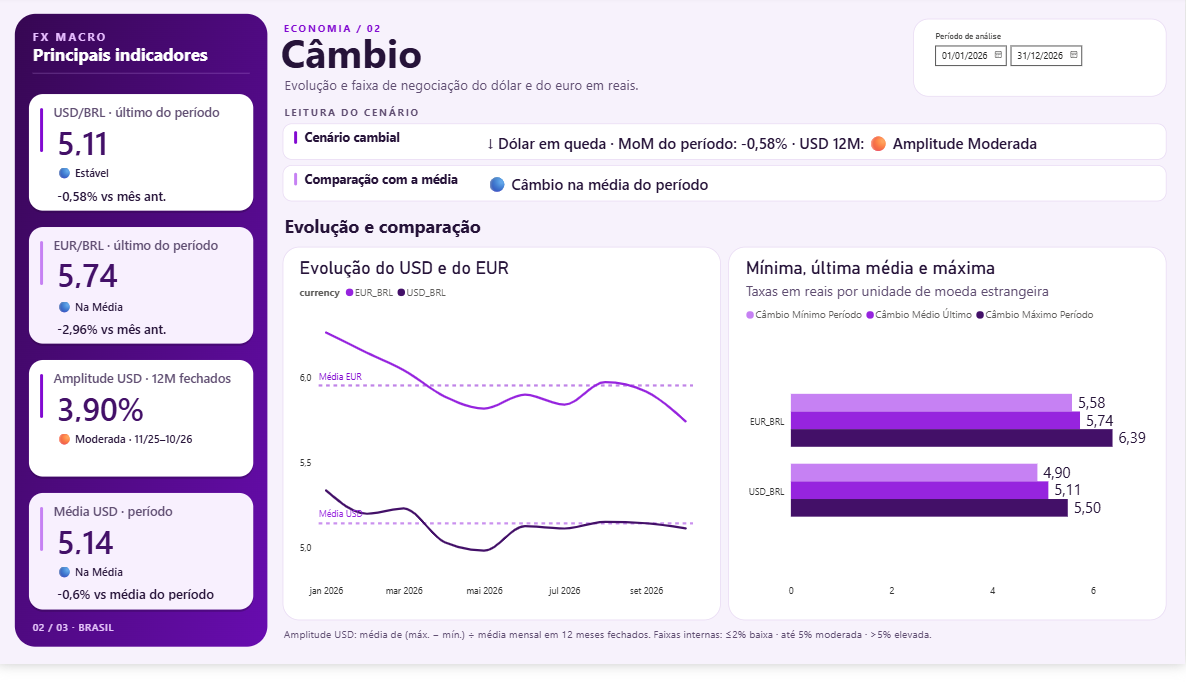

This screenshot's page, from the dashboard's own definition file:
{"tool":"powerbi","page":{"name":"Câmbio","canvas":[1600,900],"ordinal":1},"visuals":[{"type":"image","box":[0,0,1600,900],"z":0},{"type":"cardVisual","fields":{"Data":["vw_fx_monthly_summary.Câmbio USD Último"]},"box":[75,170,265,50],"z":1000},{"type":"cardVisual","fields":{"Data":["vw_fx_monthly_summary.Badge USD Status"]},"box":[75,221,265,32],"z":1100},{"type":"cardVisual","fields":{"Data":["vw_fx_monthly_summary.Câmbio Delta Texto"]},"box":[75,253,265,30],"z":1200},{"type":"cardVisual","fields":{"Data":["vw_fx_monthly_summary.Câmbio EUR Último"]},"box":[75,349,265,50],"z":1300},{"type":"cardVisual","fields":{"Data":["vw_fx_monthly_summary.Badge EUR Último Status"]},"box":[75,400,265,32],"z":1400},{"type":"cardVisual","fields":{"Data":["vw_fx_monthly_summary.EUR Delta Texto"]},"box":[75,432,265,30],"z":1500},{"type":"cardVisual","fields":{"Data":["vw_fx_monthly_summary.Volatilidade Câmbio"]},"box":[75,528,265,50],"z":1600},{"type":"cardVisual","fields":{"Data":["vw_fx_monthly_summary.Badge Volatilidade Status"]},"box":[75,579,265,32],"z":1700},{"type":"cardVisual","fields":{"Data":["vw_fx_monthly_summary.Câmbio USD Média Histórica"]},"box":[75,707,265,50],"z":1900},{"type":"cardVisual","fields":{"Data":["vw_fx_monthly_summary.Badge USD Histórico Status"]},"box":[75,758,265,32],"z":2000},{"type":"cardVisual","fields":{"Data":["vw_fx_monthly_summary.USD vs Média Histórica Texto"]},"box":[75,790,265,30],"z":2100},{"type":"cardVisual","fields":{"Data":["vw_fx_monthly_summary.Câmbio Cenário Resumo"]},"box":[654,173,904,46],"z":3000},{"type":"cardVisual","fields":{"Data":["vw_fx_monthly_summary.Câmbio Caro ou Barato"]},"box":[654,229,904,46],"z":3100},{"type":"lineChart","title":"Evolução do USD e do EUR","fields":{"Category":["Calendario.Date.Variation.Hierarquia de datas.Ano"],"Series":["vw_fx_monthly_summary.currency"],"Y":["vw_fx_monthly_summary.Câmbio Médio Último"]},"box":[403,352,553,467],"z":4000},{"type":"clusteredBarChart","title":"Mínima, última média e máxima","fields":{"Category":["vw_fx_monthly_summary.currency"],"Y":["vw_fx_monthly_summary.Câmbio Mínimo Período","vw_fx_monthly_summary.Câmbio Médio Último","vw_fx_monthly_summary.Câmbio Máximo Período"]},"box":[1003,352,553,467],"z":4100},{"type":"slicer","fields":{"Values":["Calendario.Date"]},"box":[1251,42,306,81],"z":5000}]}

Visuals, with their boxes on the page's 1600x900 design canvas (x1, y1, x2, y2). These are canvas units, not pixel positions in the 1186x697 screenshot, which may show the page scaled, cropped or inside an application window:
image: left=0, top=0, right=1600, bottom=900
cardVisual - vw_fx_monthly_summary.Câmbio USD Último: left=75, top=170, right=340, bottom=220
cardVisual - vw_fx_monthly_summary.Badge USD Status: left=75, top=221, right=340, bottom=253
cardVisual - vw_fx_monthly_summary.Câmbio Delta Texto: left=75, top=253, right=340, bottom=283
cardVisual - vw_fx_monthly_summary.Câmbio EUR Último: left=75, top=349, right=340, bottom=399
cardVisual - vw_fx_monthly_summary.Badge EUR Último Status: left=75, top=400, right=340, bottom=432
cardVisual - vw_fx_monthly_summary.EUR Delta Texto: left=75, top=432, right=340, bottom=462
cardVisual - vw_fx_monthly_summary.Volatilidade Câmbio: left=75, top=528, right=340, bottom=578
cardVisual - vw_fx_monthly_summary.Badge Volatilidade Status: left=75, top=579, right=340, bottom=611
cardVisual - vw_fx_monthly_summary.Câmbio USD Média Histórica: left=75, top=707, right=340, bottom=757
cardVisual - vw_fx_monthly_summary.Badge USD Histórico Status: left=75, top=758, right=340, bottom=790
cardVisual - vw_fx_monthly_summary.USD vs Média Histórica Texto: left=75, top=790, right=340, bottom=820
cardVisual - vw_fx_monthly_summary.Câmbio Cenário Resumo: left=654, top=173, right=1558, bottom=219
cardVisual - vw_fx_monthly_summary.Câmbio Caro ou Barato: left=654, top=229, right=1558, bottom=275
"Evolução do USD e do EUR" lineChart: left=403, top=352, right=956, bottom=819
"Mínima, última média e máxima" clusteredBarChart: left=1003, top=352, right=1556, bottom=819
slicer - Calendario.Date: left=1251, top=42, right=1557, bottom=123
